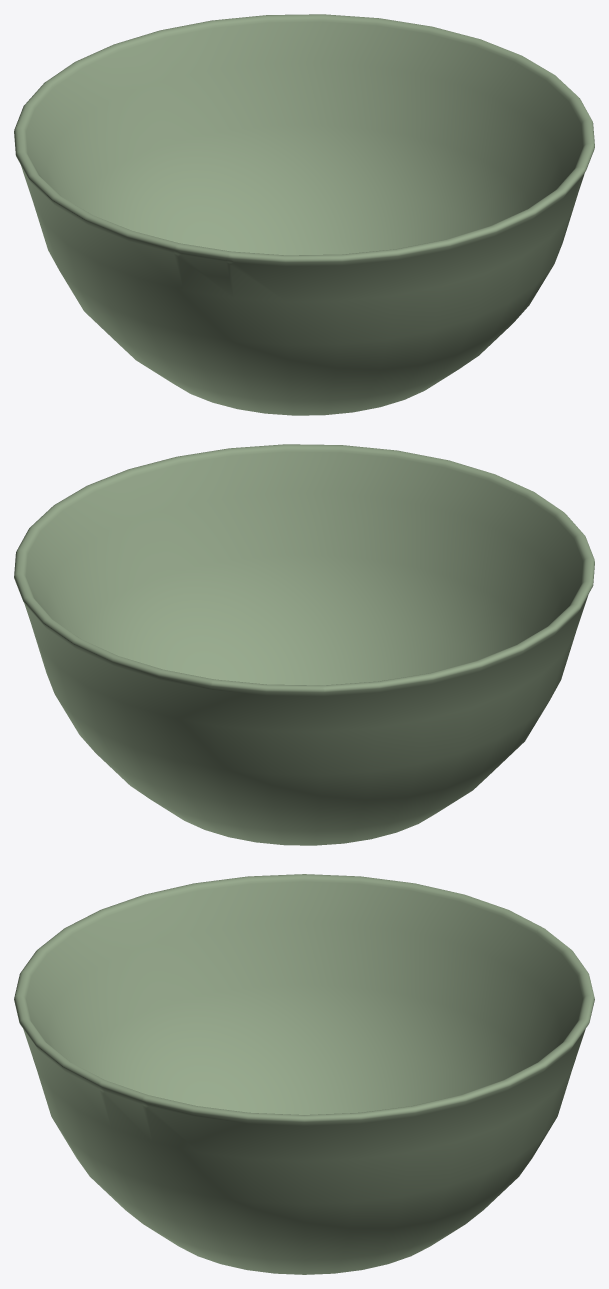
Rendered from bowl.fbx.
3 renders of one model, top to bottom at view 1: azimuth 30°, elevation 25°; view 2: azimuth 150°, elevation 25°; view 3: azimuth 270°, elevation 25°, orthographic.
Parts seen in each view (by area): view 1: Sphere.004; view 2: Sphere.004; view 3: Sphere.004.
Part boxes in pixels (left/top/right/bottom): Sphere.004: left=14, top=14, right=594, bottom=415; Sphere.004: left=14, top=444, right=594, bottom=845; Sphere.004: left=14, top=874, right=594, bottom=1274.
Bounding box in the file's own units: 203 × 89.58 × 203.
